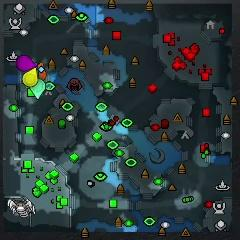p2: (30, 79, 45, 99)
p3: (16, 55, 36, 71)
p4: (23, 67, 38, 86)
p5: (36, 62, 47, 80)
